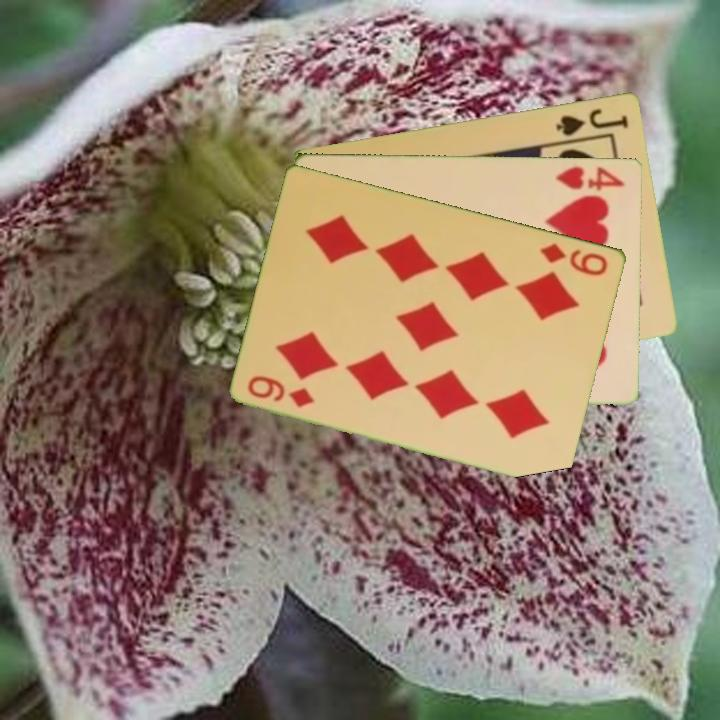4h: (552, 162, 628, 193)
9d: (537, 239, 611, 279), (244, 371, 318, 411)
Js: (552, 104, 631, 138)
